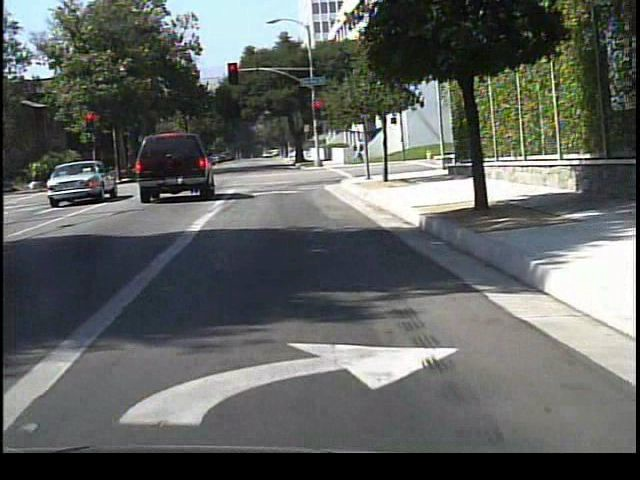person: (348, 138, 365, 168)
